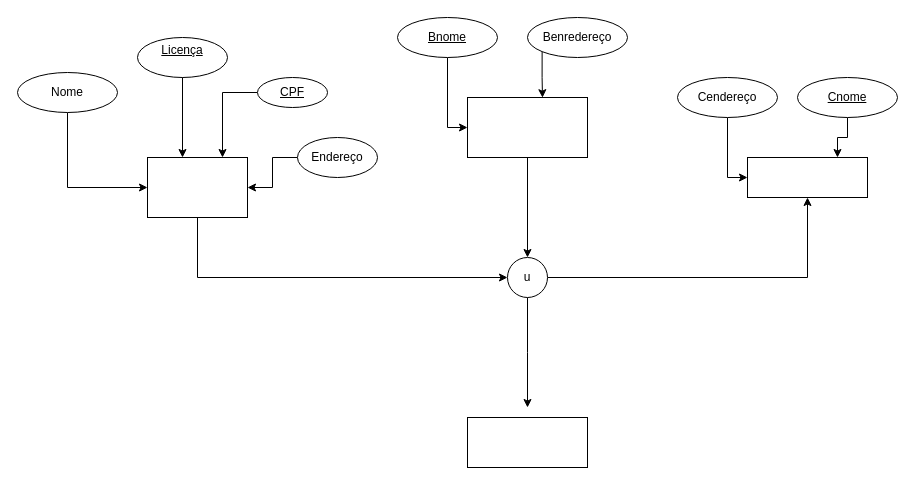
This 915x485 diagram has some shape labels left out. The shapes that lost their labels are listed below. From the top down, each one's box as (x1, y1, x2, y2) in pixels, then its label:
(466, 96, 588, 158): Banco
(146, 156, 248, 218): Pessoa
(746, 156, 868, 198): Company
(466, 416, 588, 468): Owner
